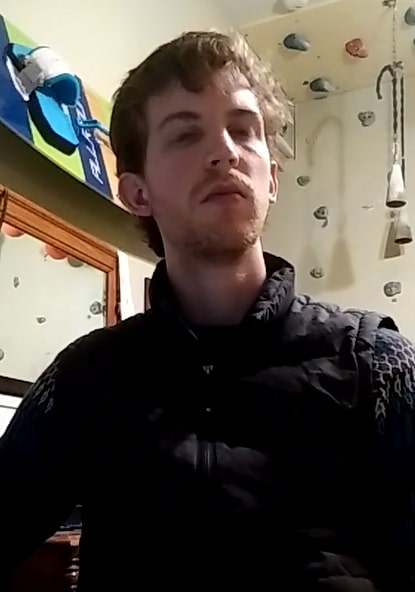Half Asleep: (153, 112, 267, 153)
